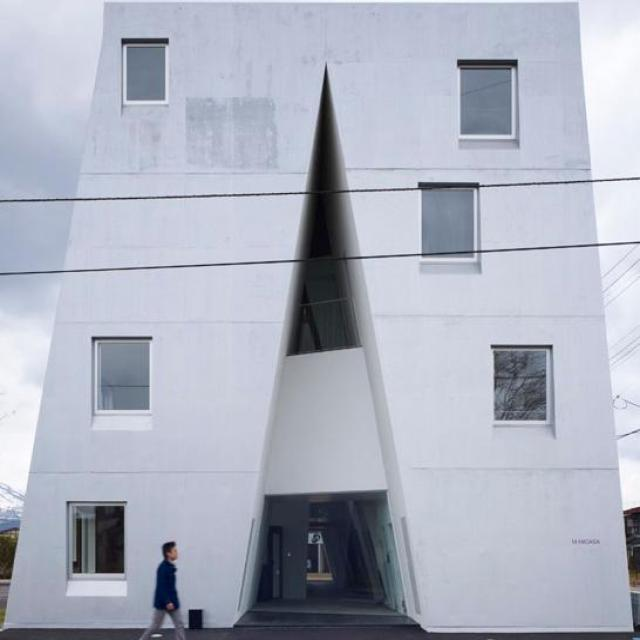window: (490, 348, 548, 428), (67, 502, 126, 578), (457, 67, 515, 138), (95, 340, 150, 412), (422, 189, 477, 258), (122, 41, 166, 101)
